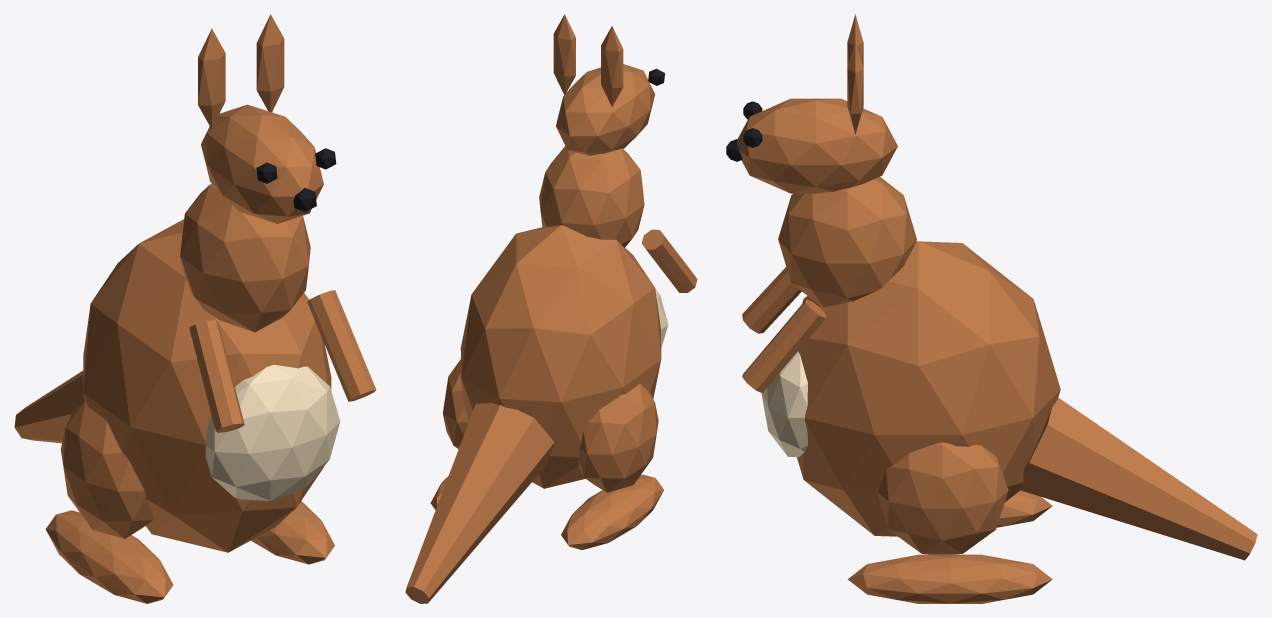
Rendered from Kangaroo.fbx.
The picture shows the model from 3 angles, left to right: view 1: azimuth 30°, elevation 25°; view 2: azimuth 150°, elevation 25°; view 3: azimuth 270°, elevation 25°; orthographic projection. The views are drawn at different scales.
Visible parts, largest first — view 1: Fur, Pouch, Eyes; view 2: Fur; view 3: Fur, Pouch.
Part boxes in pixels (x1=…): Fur: x1=14, y1=14, x2=376, y2=603; Pouch: x1=205, y1=364, x2=340, y2=500; Eyes: x1=256, y1=148, x2=336, y2=183; Fur: x1=405, y1=14, x2=697, y2=603; Fur: x1=737, y1=14, x2=1257, y2=603; Pouch: x1=761, y1=351, x2=807, y2=456.
Size of the model in its own units: 1.63 by 3.75 by 3.37.
